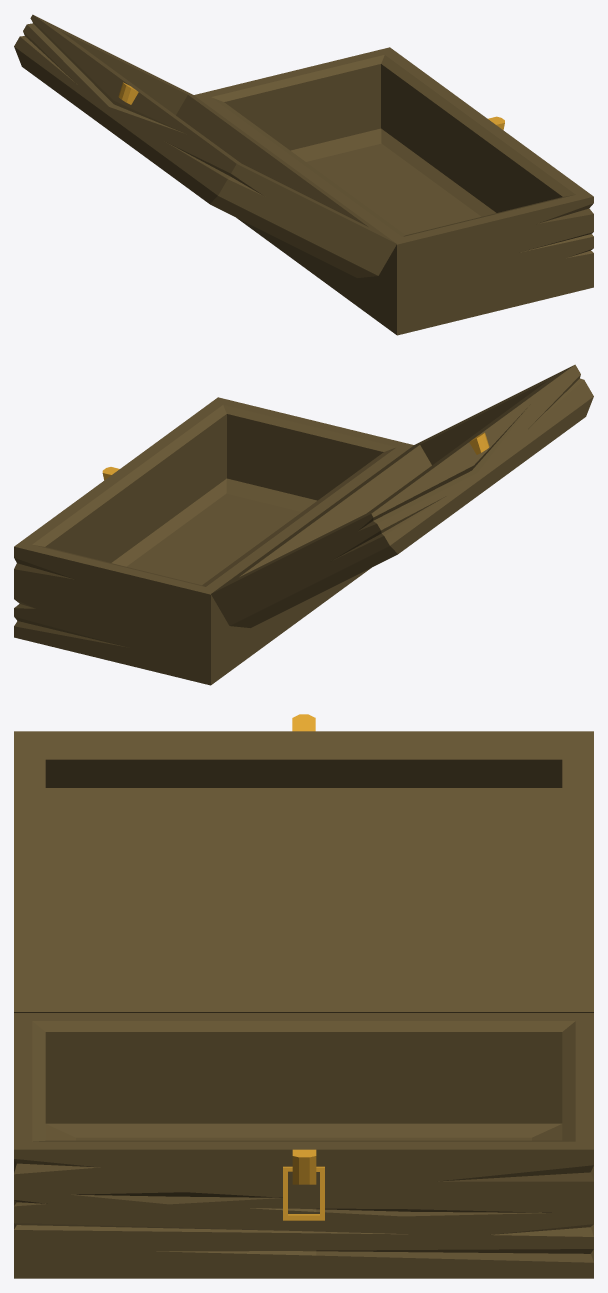
File: knife_box (1).fbx
3 views of the same model, one above another, from view 1: azimuth 30°, elevation 25°; view 2: azimuth 150°, elevation 25°; view 3: azimuth 270°, elevation 25° (orthographic). The views are drawn at different scales.
Visible parts, largest first — view 1: Cube, Cube.001; view 2: Cube, Cube.001; view 3: Cube.001, Cube, Cube.002.
Boxes of the visible parts, x1=… form: Cube: x1=194, y1=47, x2=593, y2=335; Cube.001: x1=14, y1=14, x2=396, y2=277; Cube: x1=14, y1=397, x2=413, y2=685; Cube.001: x1=211, y1=364, x2=593, y2=627; Cube.001: x1=14, y1=714, x2=593, y2=1012; Cube: x1=14, y1=1013, x2=593, y2=1278; Cube.002: x1=283, y1=1166, x2=324, y2=1220.
Size of the model in its own units: 543 by 292 by 495.
